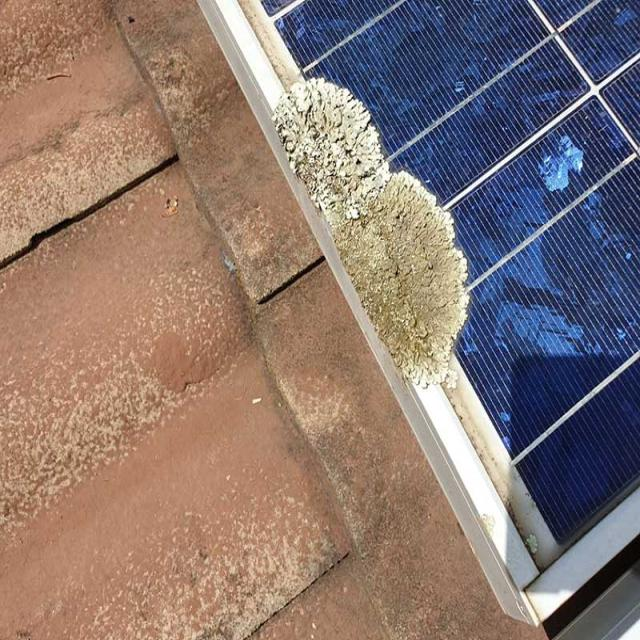dust-solar-panel: (212, 0, 640, 615)
